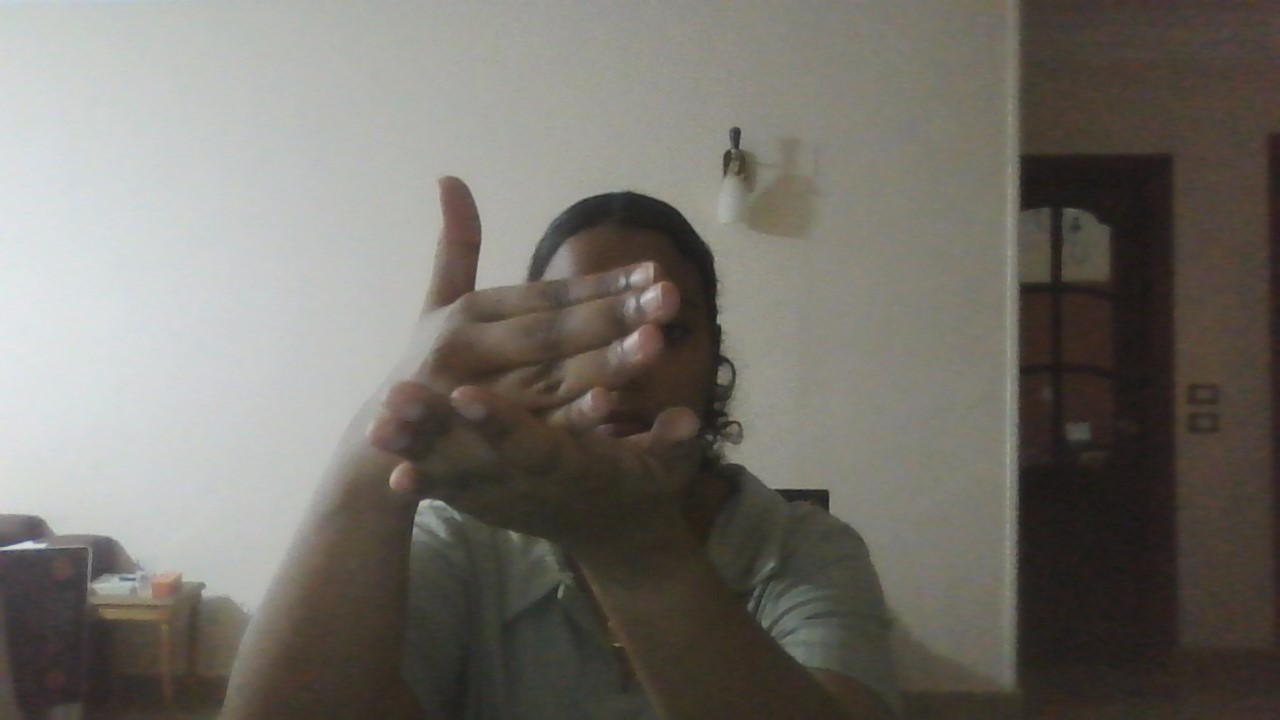stop: (343, 150, 764, 595)
